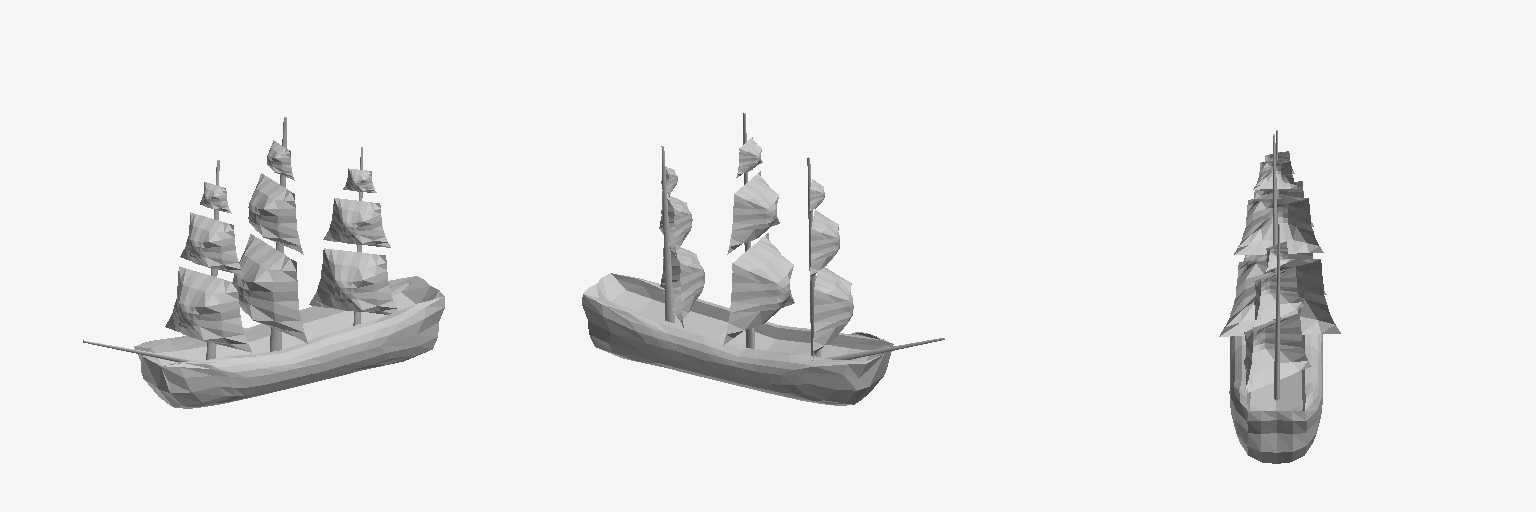
File: ship.obj
3 renders of one model, left to right at view 1: azimuth 30°, elevation 25°; view 2: azimuth 150°, elevation 25°; view 3: azimuth 270°, elevation 25°, orthographic.
Visible parts, largest first — view 1: Mesh_Cylinder; view 2: Mesh_Cylinder; view 3: Mesh_Cylinder.
Boxes of the visible parts, x1=… form: Mesh_Cylinder: x1=83, y1=117, x2=444, y2=408; Mesh_Cylinder: x1=582, y1=113, x2=944, y2=405; Mesh_Cylinder: x1=1219, y1=130, x2=1340, y2=463.
Bounding box in the file's own units: 26.94 × 19.71 × 8.16.